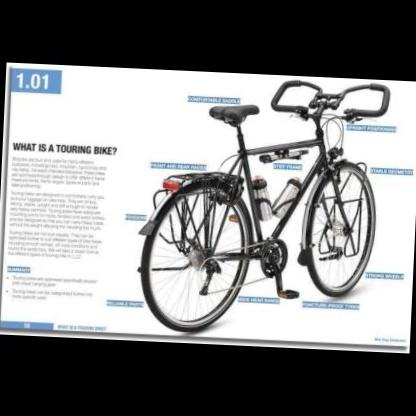Bicycle: (136, 74, 407, 338)
